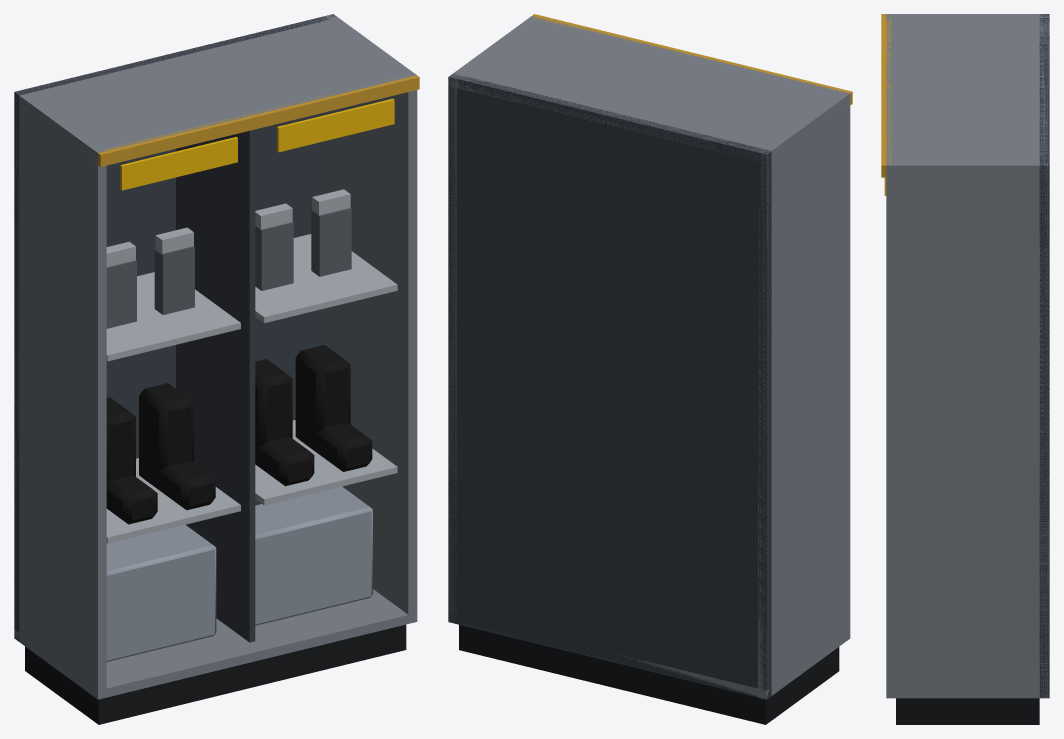
The model's file is suitrack_glove_boot_locker.glb.
The picture shows the model from 3 angles, left to right: view 1: azimuth 30°, elevation 25°; view 2: azimuth 150°, elevation 25°; view 3: azimuth 270°, elevation 25°; orthographic projection. The views are drawn at different scales.
Parts seen in each view (by area): view 1: suitrack_glove_boot_locker; view 2: suitrack_glove_boot_locker; view 3: suitrack_glove_boot_locker.
Part boxes in pixels (x1=…): suitrack_glove_boot_locker: x1=14, y1=14, x2=419, y2=724; suitrack_glove_boot_locker: x1=448, y1=14, x2=852, y2=724; suitrack_glove_boot_locker: x1=881, y1=14, x2=1049, y2=724.
Bounding box in the file's own units: 1.1 × 1.9 × 0.515.
